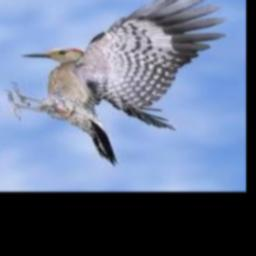Woodpecker: (4, 0, 226, 166)
